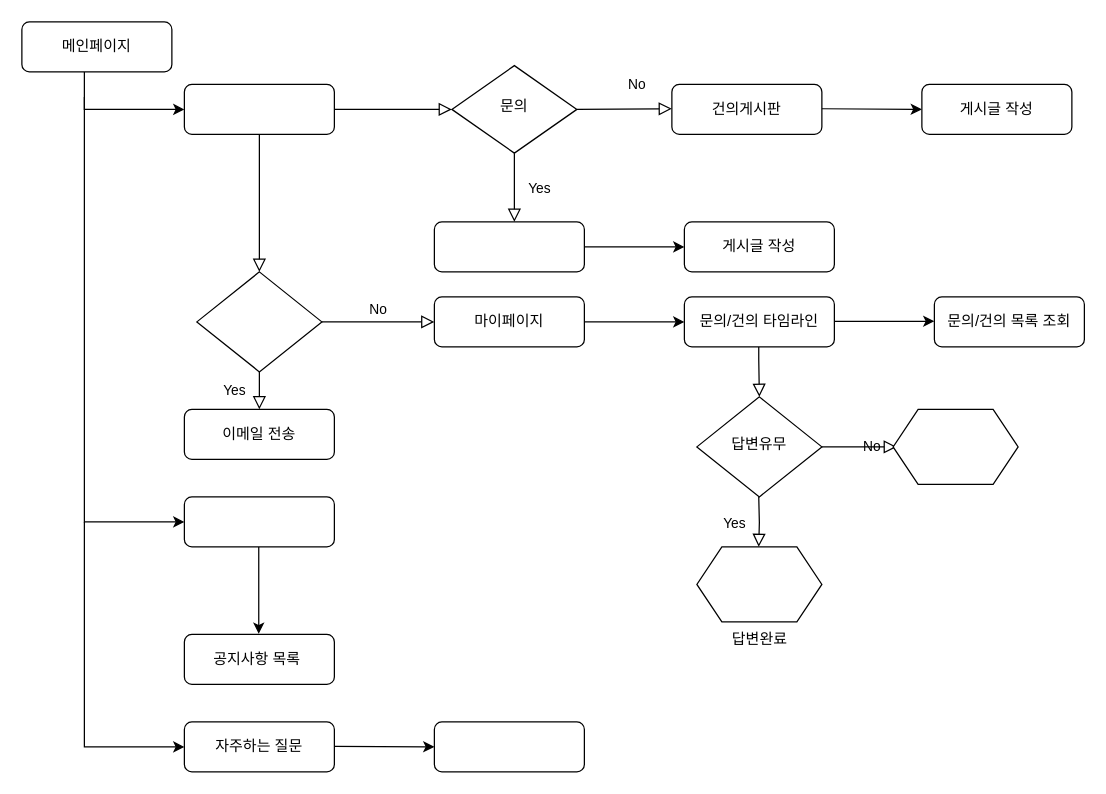
This 1106x794 diagram has some shape labels left out. Each missing label, with the centre of its shape:
게시글 확인: pixel 508 746
공지사항 게시판: pixel 258 521
답변대기: pixel 955 446
답변알림서비스: pixel 259 321
문의 게시판: pixel 508 246
문의/건의 게시판: pixel 258 108
